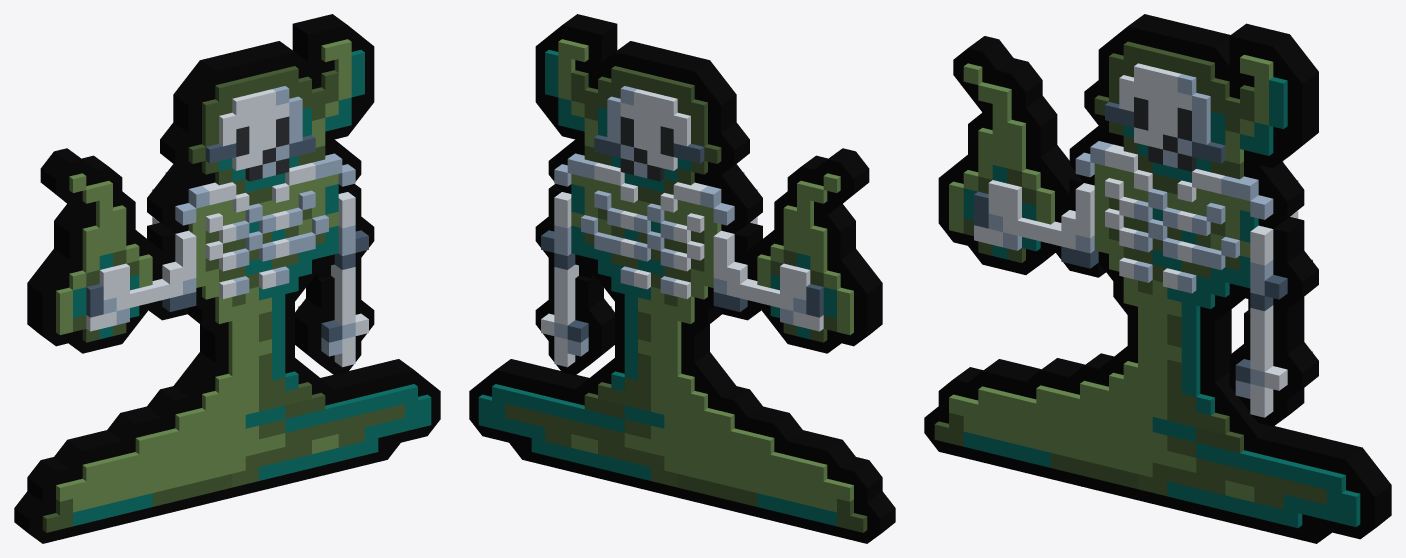
File: final final skelly w border USE THIS ONE.glb
The picture shows the model from 3 angles, left to right: view 1: azimuth 30°, elevation 25°; view 2: azimuth 150°, elevation 25°; view 3: azimuth 330°, elevation 25°; orthographic projection. The views are drawn at different scales.
Visible parts, largest first — view 1: generated(Clone); view 2: generated(Clone); view 3: generated(Clone).
Part boxes in pixels (box(x1,y1,x2,y2)): generated(Clone): box(14, 14, 440, 543); generated(Clone): box(469, 14, 895, 543); generated(Clone): box(924, 14, 1391, 543).
Size of the model in its own units: 31 by 32 by 4.
